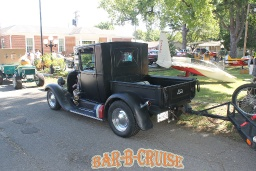car: (44, 41, 201, 136)
